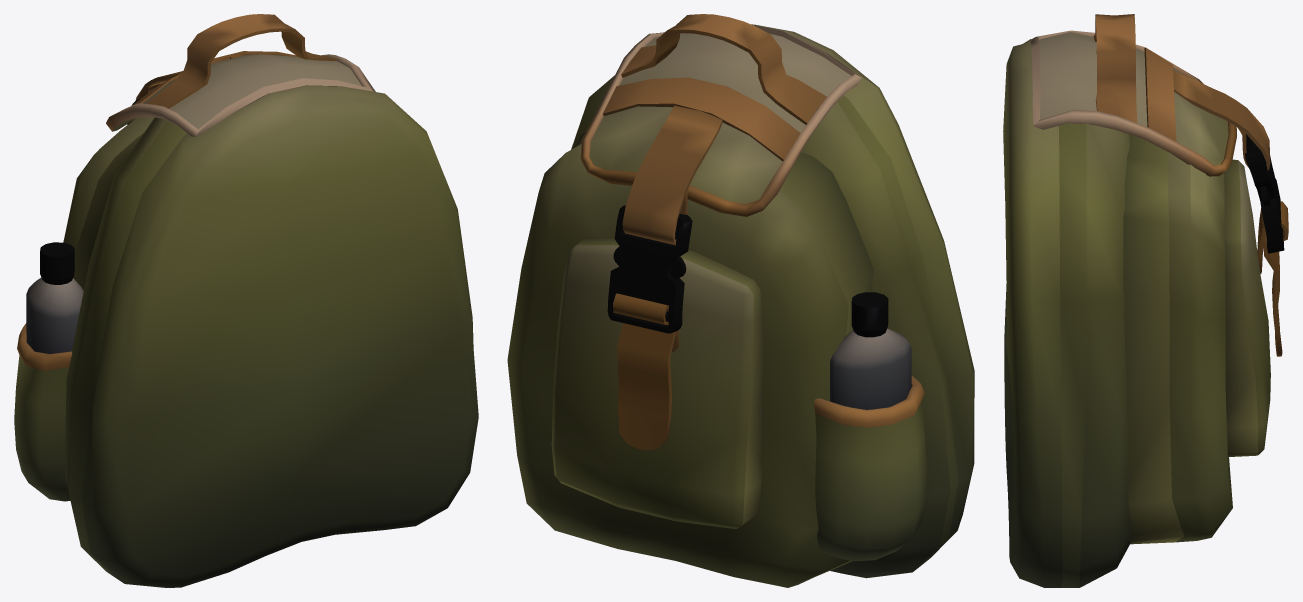
Rendered from BTLMN_Backs_A.glb.
The picture shows the model from 3 angles, left to right: view 1: azimuth 30°, elevation 25°; view 2: azimuth 150°, elevation 25°; view 3: azimuth 270°, elevation 25°; orthographic projection. The views are drawn at different scales.
Parts seen in each view (by area): view 1: Back_Tactical_Backpack_MA01; view 2: Back_Tactical_Backpack_MA01; view 3: Back_Tactical_Backpack_MA01.
Boxes of the visible parts, <box> form: Back_Tactical_Backpack_MA01: <box>14,14,478,587</box>; Back_Tactical_Backpack_MA01: <box>507,14,974,587</box>; Back_Tactical_Backpack_MA01: <box>1003,14,1288,587</box>.
Bounding box in the file's own units: 0.788 × 0.9538 × 0.4937.
